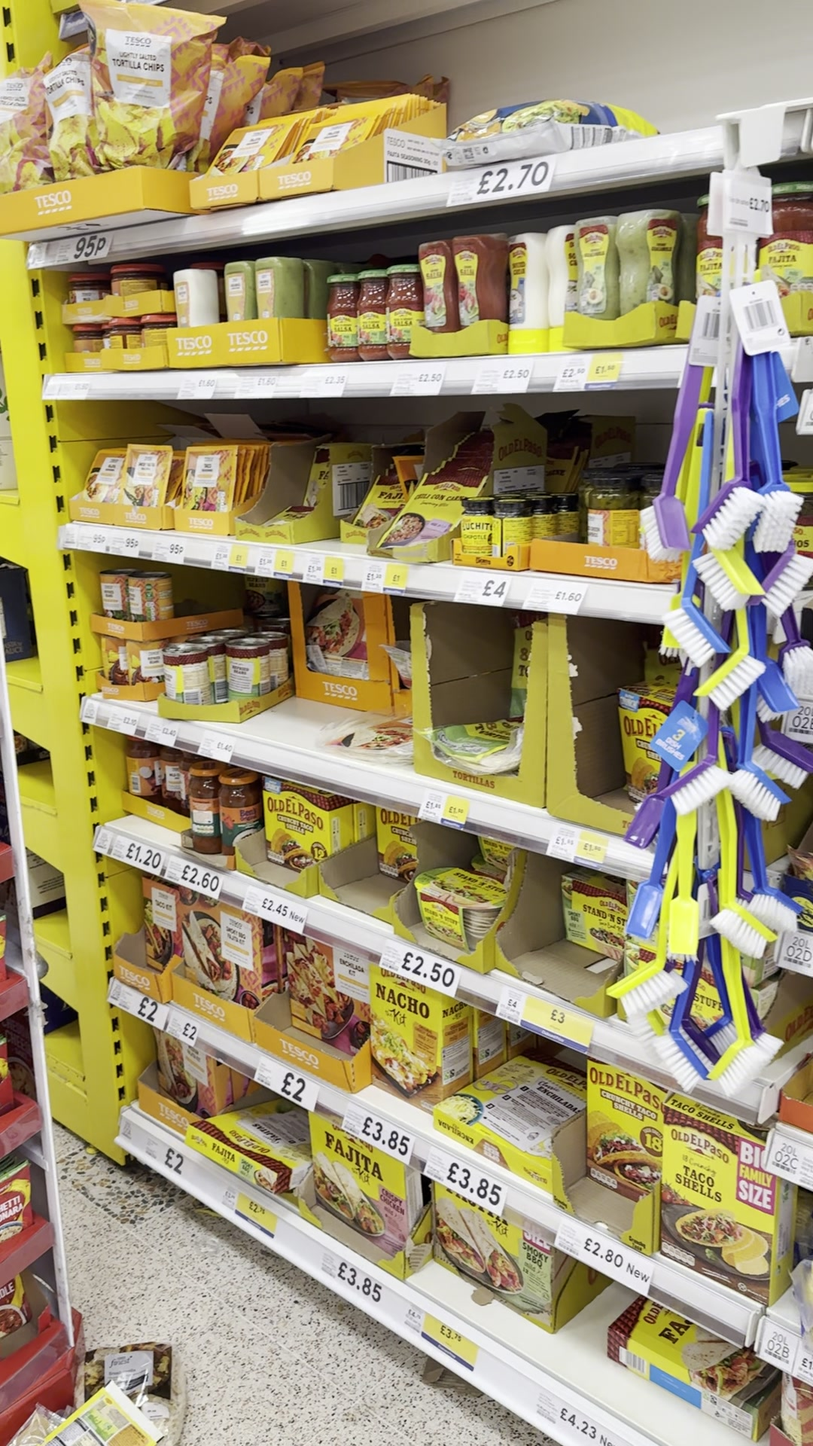large: (449, 157, 556, 205), (52, 232, 111, 265)
medium: (556, 1216, 653, 1295), (498, 986, 593, 1051), (425, 1148, 505, 1215), (381, 938, 461, 997), (343, 1103, 413, 1162), (255, 1058, 318, 1110), (723, 172, 772, 236), (242, 886, 306, 934), (165, 855, 221, 898), (108, 834, 166, 875), (117, 986, 167, 1028), (168, 1009, 199, 1045)
small: (405, 1307, 477, 1371), (537, 1391, 600, 1441), (324, 1252, 382, 1302), (554, 352, 622, 391), (548, 825, 609, 867), (224, 1188, 276, 1237), (524, 575, 587, 614), (472, 355, 534, 394), (456, 569, 508, 606), (390, 363, 445, 397), (418, 790, 467, 828), (363, 560, 408, 594), (145, 1136, 184, 1174), (302, 366, 347, 398), (304, 553, 344, 586), (199, 731, 235, 764), (235, 372, 276, 399), (257, 548, 294, 577), (145, 717, 177, 746), (212, 545, 246, 572), (179, 374, 216, 398), (74, 526, 108, 552), (105, 709, 139, 734), (108, 531, 142, 554), (154, 535, 184, 560), (60, 380, 90, 399)
